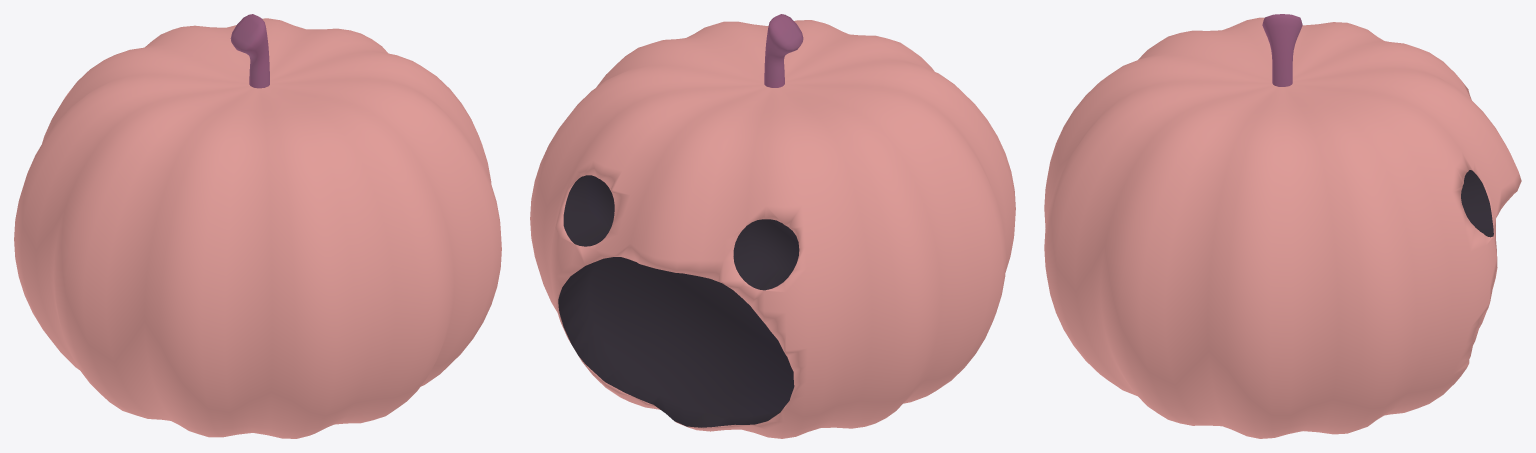
Rendered from big_pumpkin.glb.
3 views of the same model, side by side, from view 1: azimuth 30°, elevation 25°; view 2: azimuth 150°, elevation 25°; view 3: azimuth 270°, elevation 25° (orthographic).
Parts seen in each view (by area): view 1: BigPumpkin; view 2: BigPumpkin; view 3: BigPumpkin.
Boxes of the visible parts, x1=… form: BigPumpkin: x1=14, y1=14, x2=501, y2=438; BigPumpkin: x1=530, y1=14, x2=1015, y2=438; BigPumpkin: x1=1044, y1=14, x2=1521, y2=438.
Bounding box in the file's own units: 1.94 × 1.61 × 1.9.
1 material, 1 textured.
